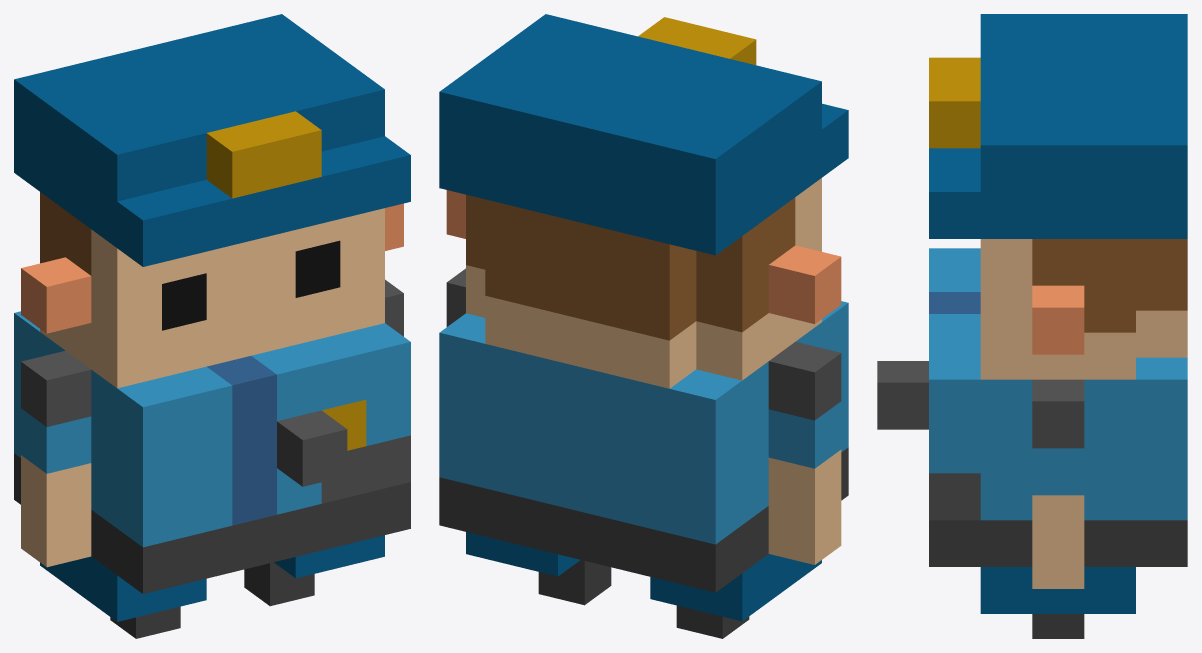
Rendered from chr_cop1.obj.
3 views of the same model, side by side, from view 1: azimuth 30°, elevation 25°; view 2: azimuth 150°, elevation 25°; view 3: azimuth 270°, elevation 25° (orthographic). The views are drawn at different scales.
Bounding box in the file's own units: 0.8 × 1.1 × 0.6.
Materials: 1 (1 with a texture image).
